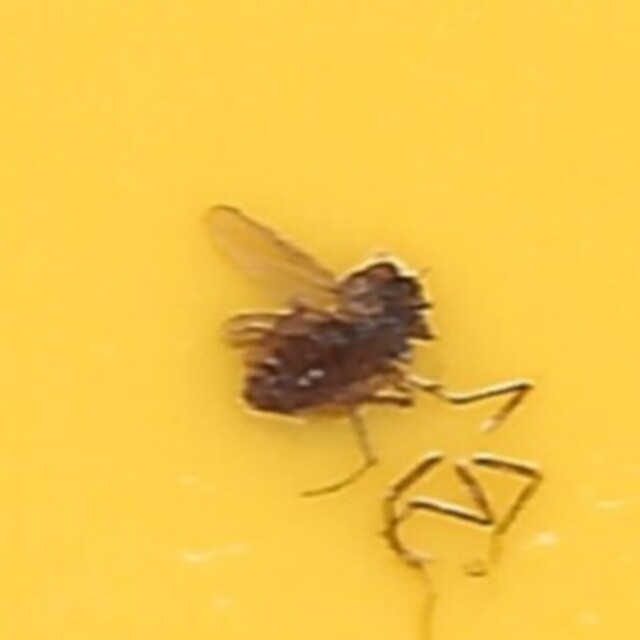Nematocera: (211, 210, 429, 430)
